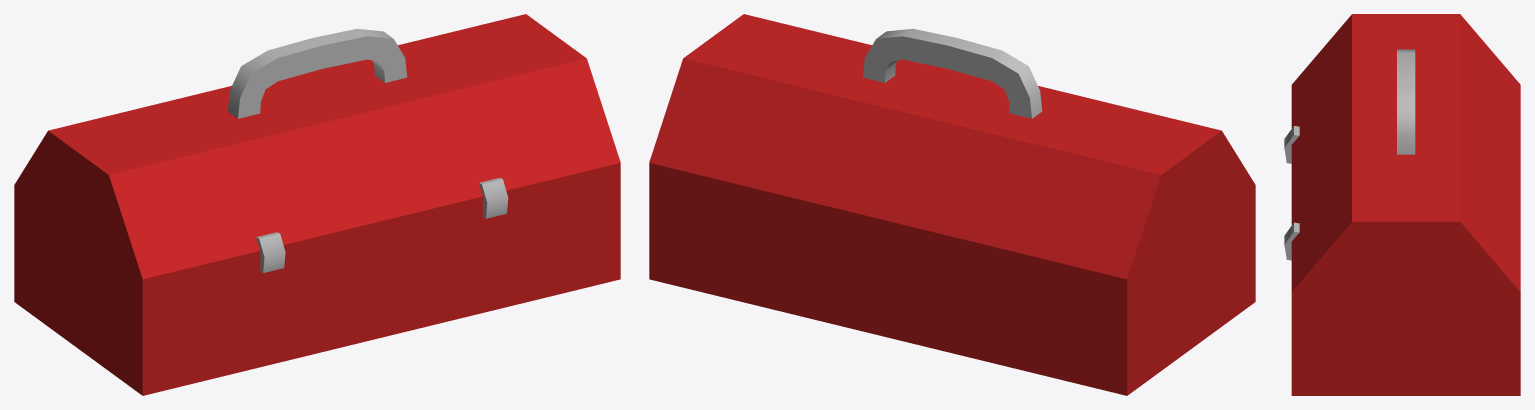
File: ToolBox.fbx
3 views of the same model, side by side, from view 1: azimuth 30°, elevation 25°; view 2: azimuth 150°, elevation 25°; view 3: azimuth 270°, elevation 25° (orthographic). The views are drawn at different scales.
Parts seen in each view (by area): view 1: Cube.001; view 2: Cube.001; view 3: Cube.001.
Part boxes in pixels (x1,y1,x2,y2): Cube.001: (14,14,620,395); Cube.001: (649,14,1255,395); Cube.001: (1284,14,1520,395).
Size of the model in its own units: 42.92 by 21.35 by 20.65.
